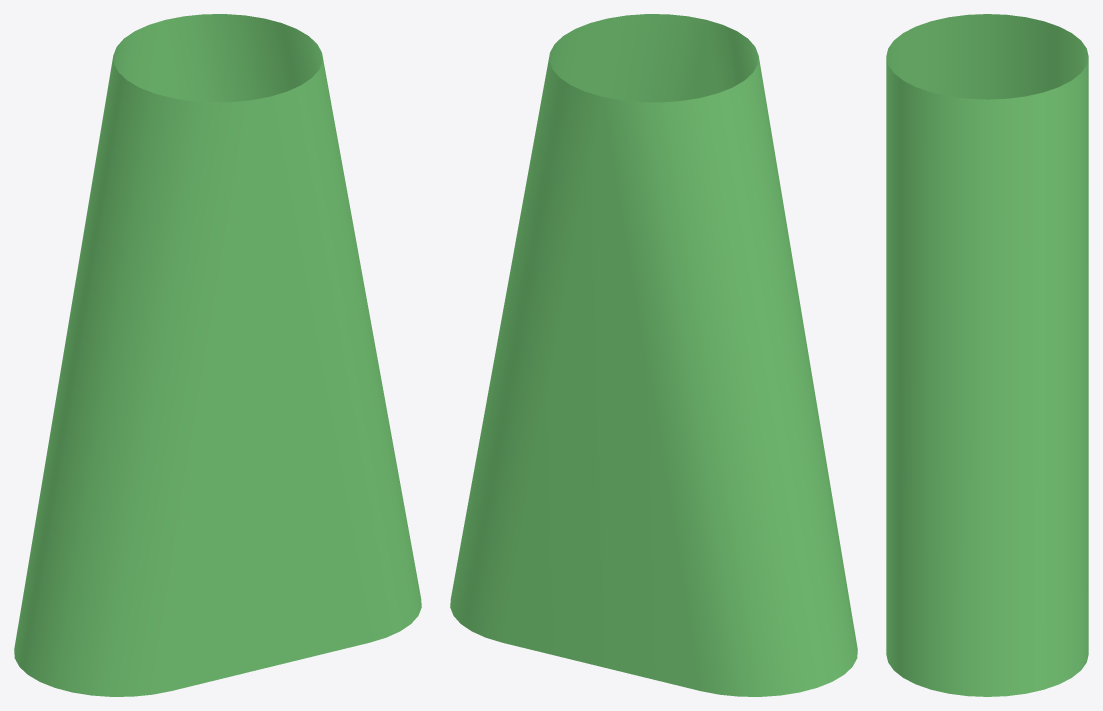
Rendered from doubleTunnel.dae.
3 renders of one model, left to right at view 1: azimuth 30°, elevation 25°; view 2: azimuth 150°, elevation 25°; view 3: azimuth 270°, elevation 25°, orthographic. The views are drawn at different scales.
Visible parts, largest first — view 1: tunell_branch; view 2: tunell_branch; view 3: tunell_branch.
Boxes of the visible parts, x1,y1,x2,y2 form: tunell_branch: (14,14,421,696); tunell_branch: (450,14,857,696); tunell_branch: (886,14,1088,696).
Size of the model in its own units: 11.37 by 5.44 by 16.31.
